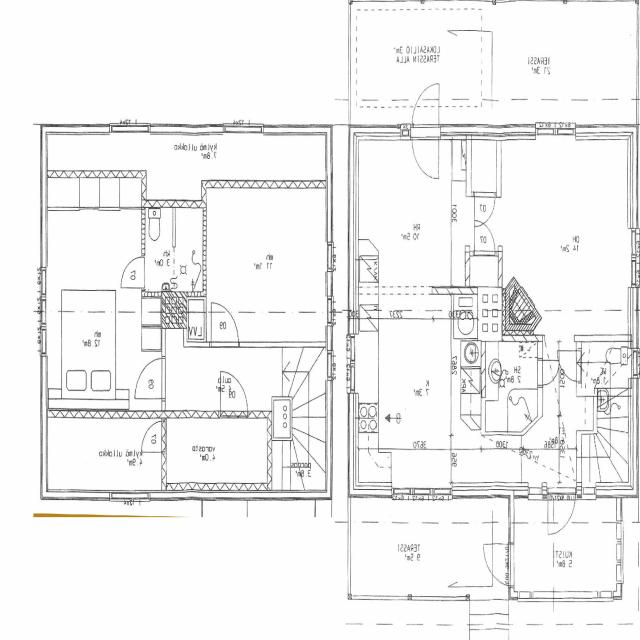door: (412, 84, 440, 140), (412, 125, 440, 180), (548, 488, 576, 536), (482, 544, 514, 586), (135, 358, 166, 399), (221, 371, 248, 418), (212, 301, 238, 347), (556, 350, 582, 381), (142, 421, 167, 452), (122, 257, 146, 288), (475, 220, 495, 256), (475, 192, 494, 226), (538, 360, 560, 385)
